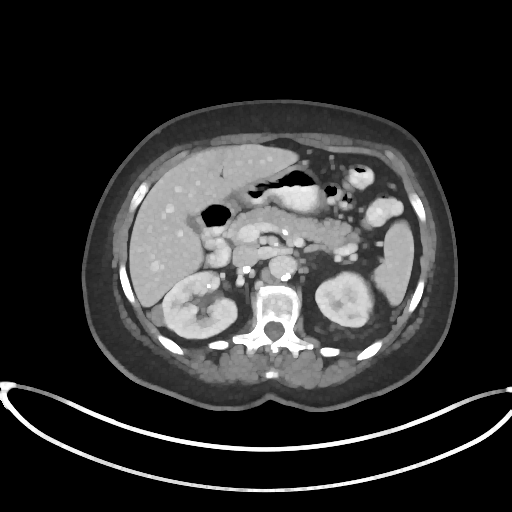Lesion: (146, 303, 170, 331)
